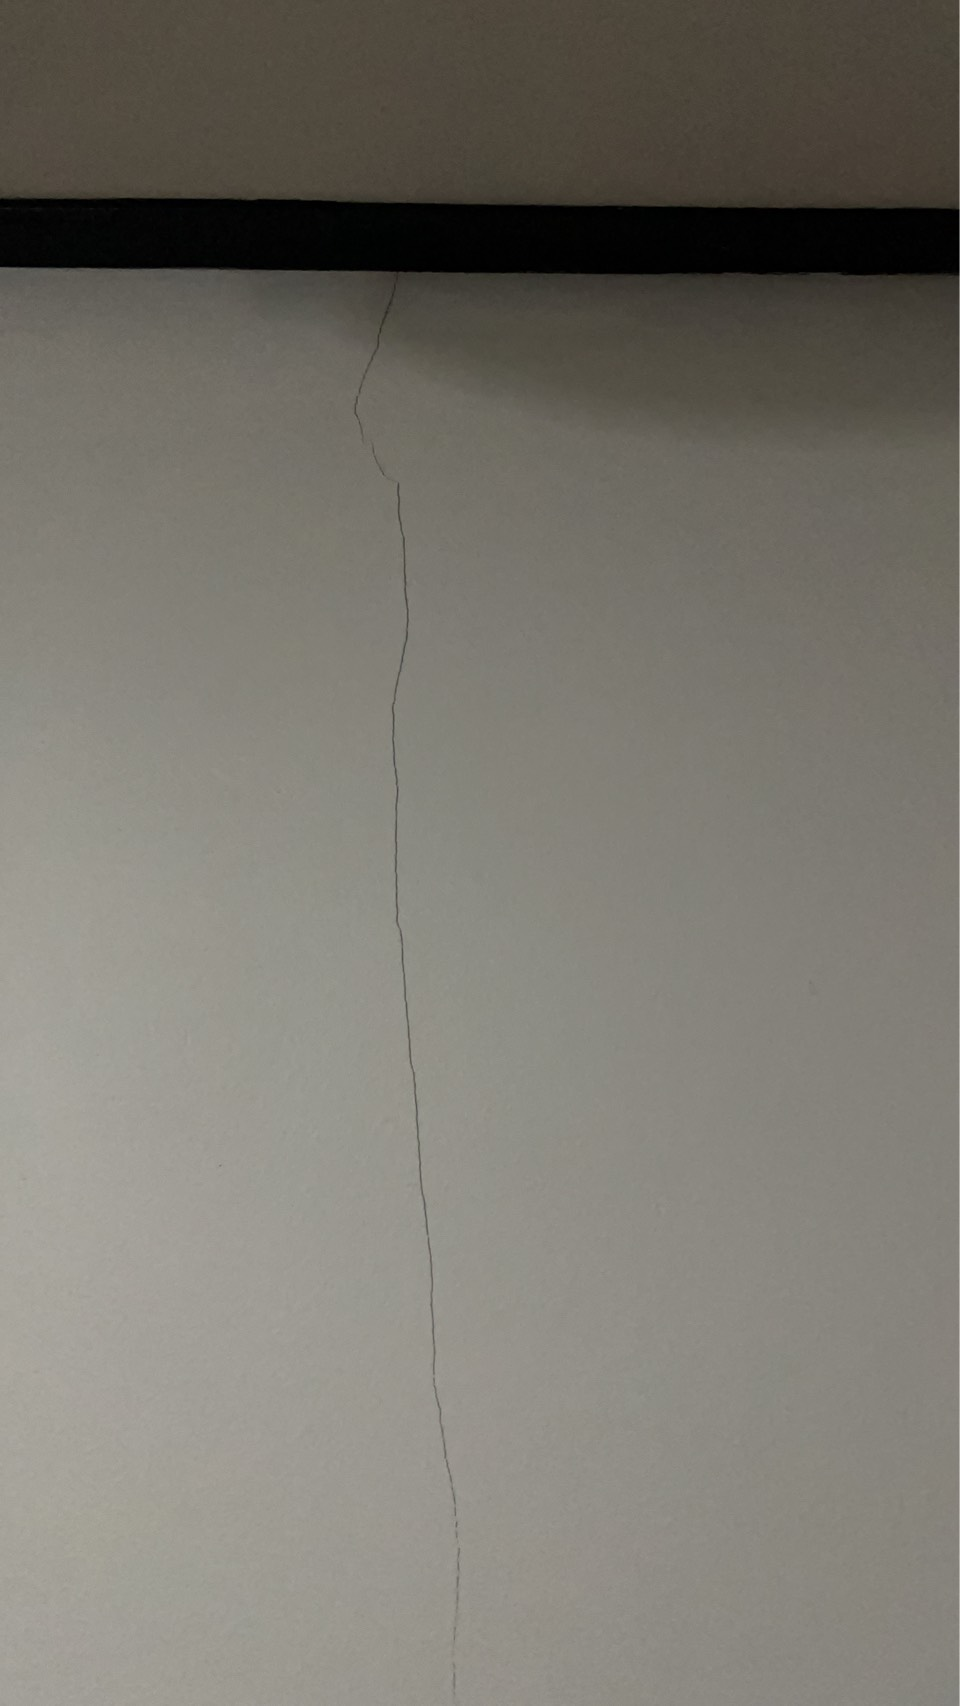Low: (215, 231, 690, 1706)
